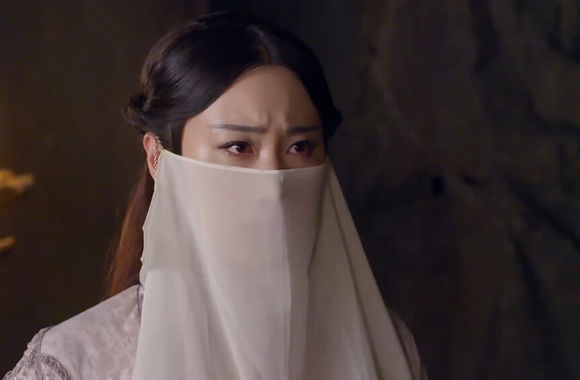face_mask: (180, 68, 326, 263)
